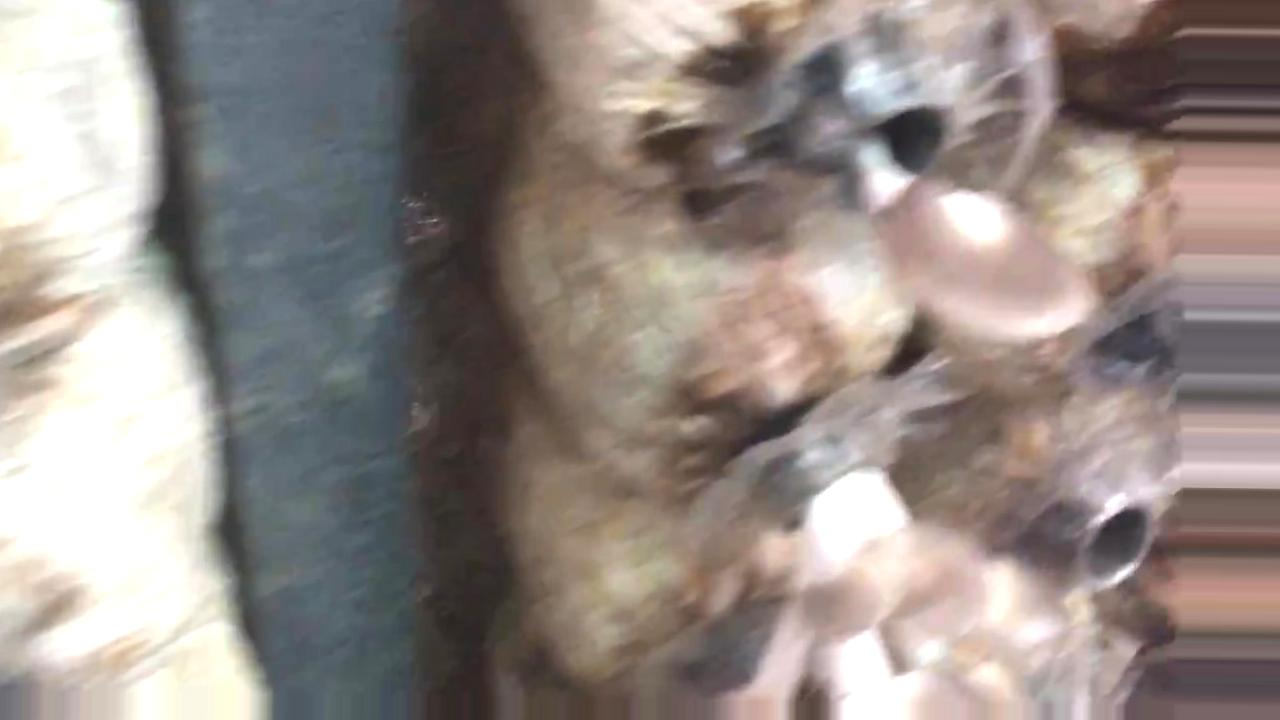nam: (811, 39, 1103, 341)
